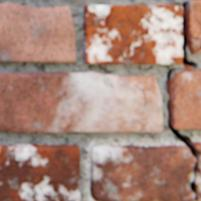brick: (0, 71, 161, 131), (84, 4, 181, 63), (0, 143, 79, 200), (0, 2, 74, 61), (169, 69, 200, 128), (185, 0, 200, 53)
broken_brick: (89, 144, 194, 200), (190, 141, 200, 200)
crack: (165, 1, 198, 199), (133, 83, 143, 95), (195, 18, 200, 33), (189, 34, 196, 38)
